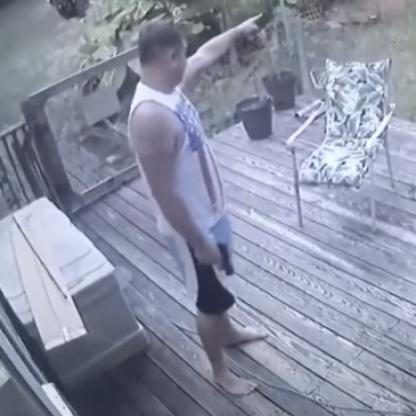criminal: (127, 13, 268, 397)
weapon: (211, 239, 238, 280)
